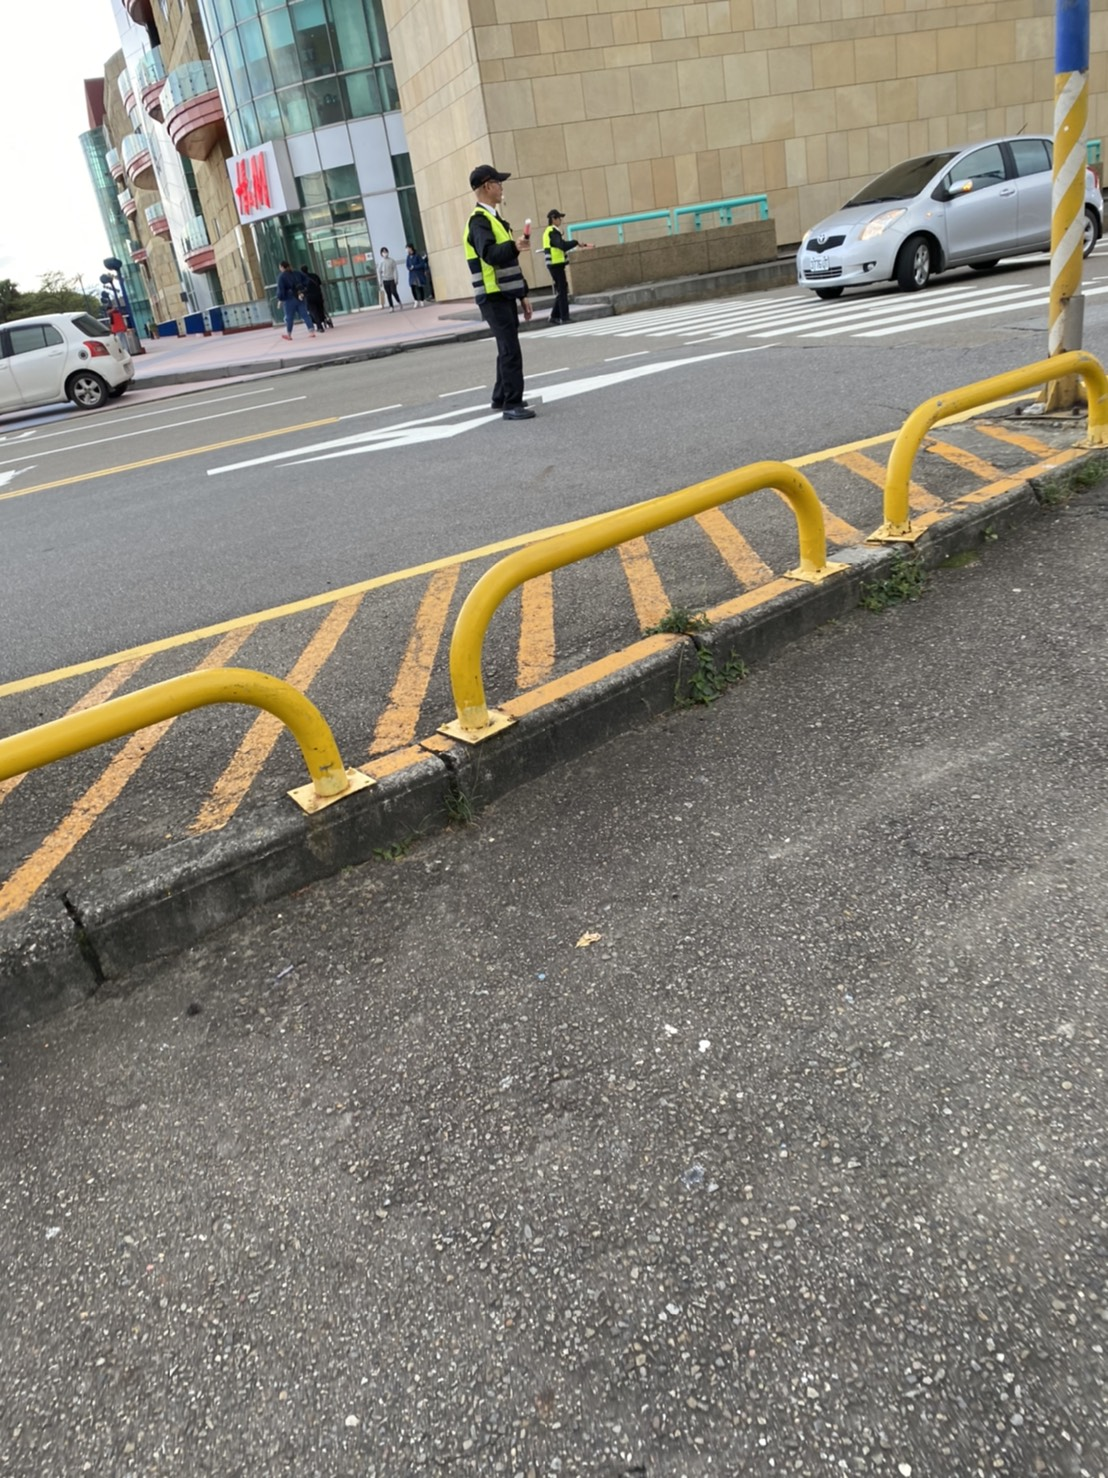people: (452, 157, 540, 435), (545, 214, 588, 314), (271, 264, 302, 331), (400, 250, 433, 307), (374, 252, 402, 300)
